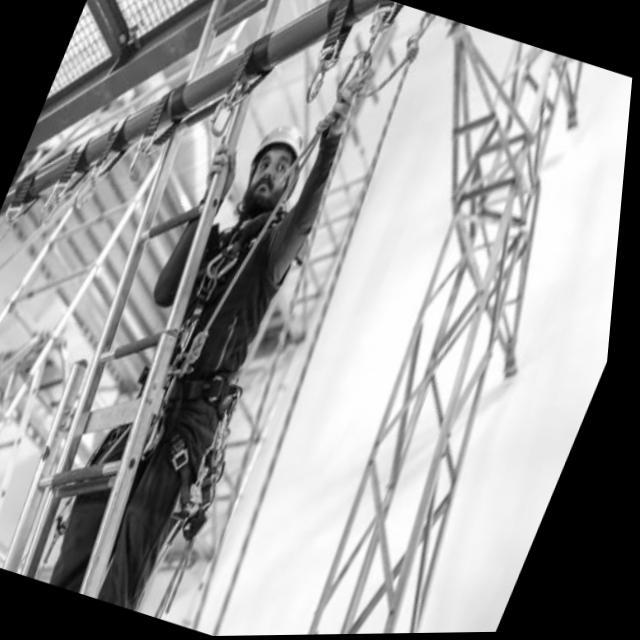belt: (105, 200, 315, 496)
